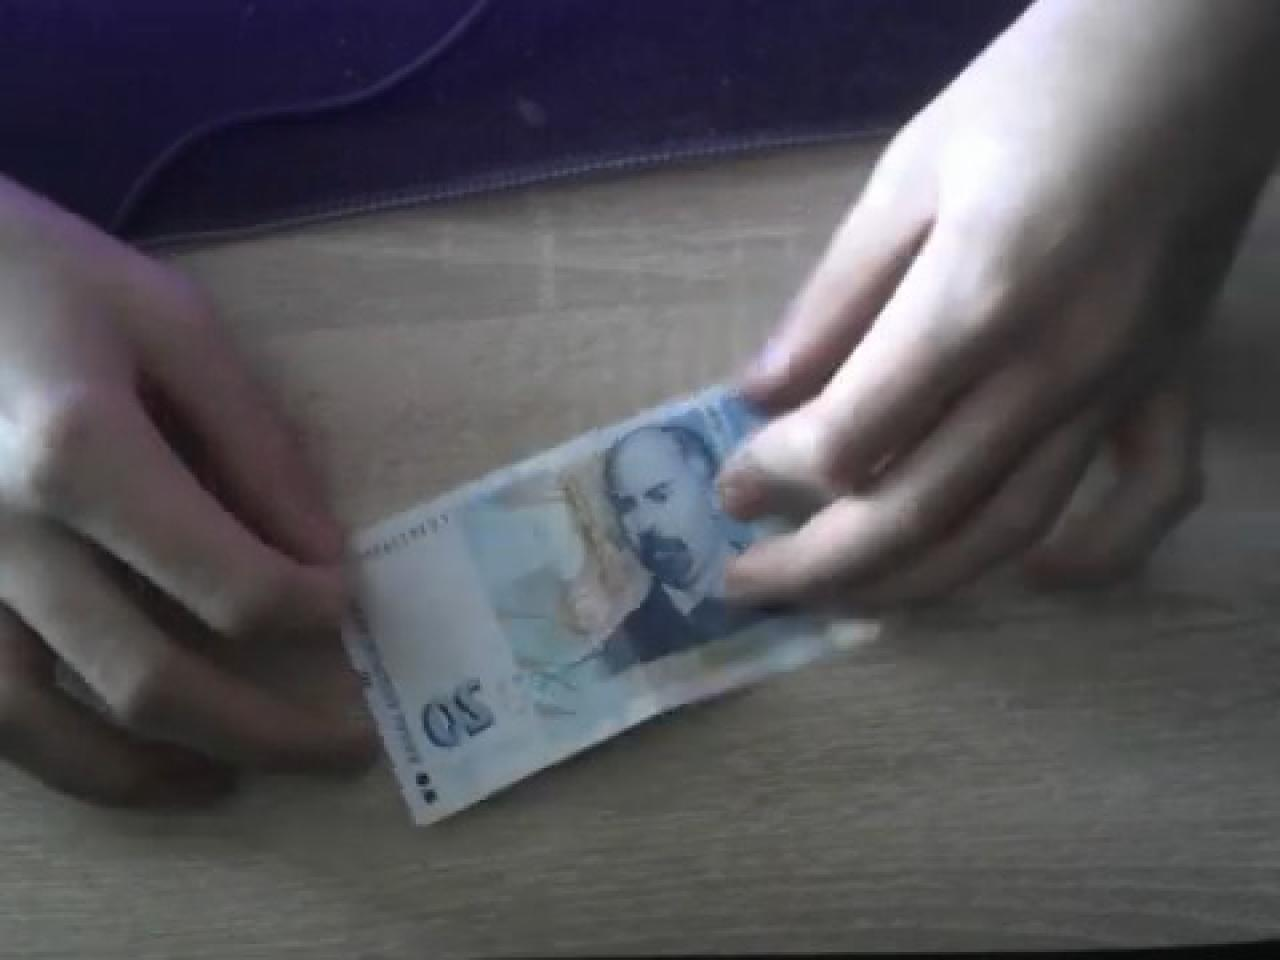20leva: (344, 379, 877, 829)
